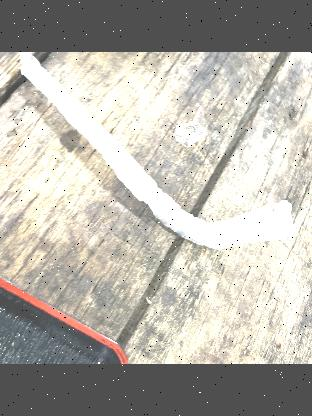Others: (15, 52, 299, 244)
